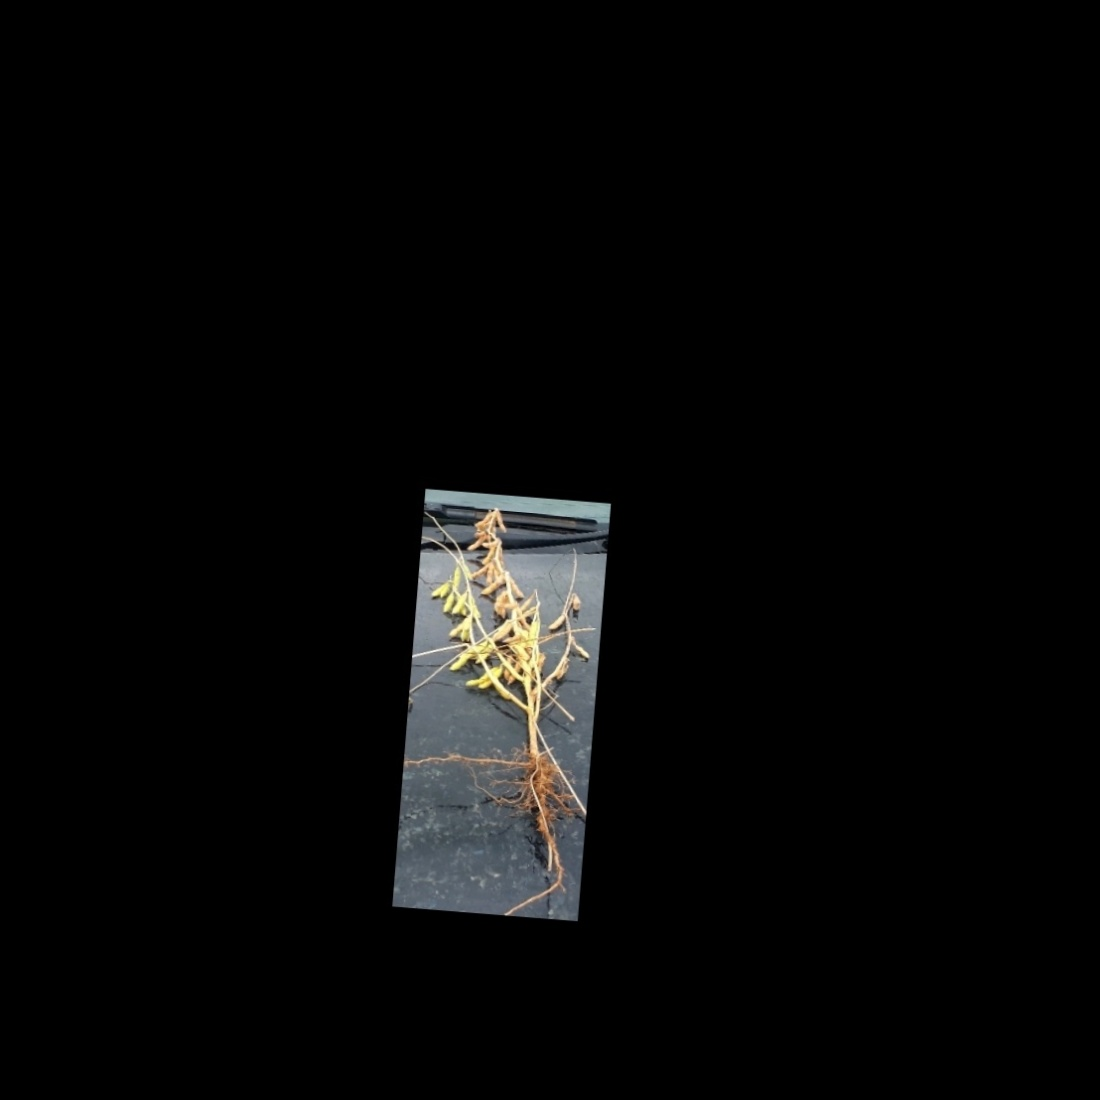pod: (446, 646, 473, 674), (478, 573, 507, 596), (568, 638, 591, 661), (545, 612, 569, 633), (429, 579, 451, 599), (441, 588, 456, 615), (494, 508, 508, 535)
soy: (404, 496, 605, 911)
